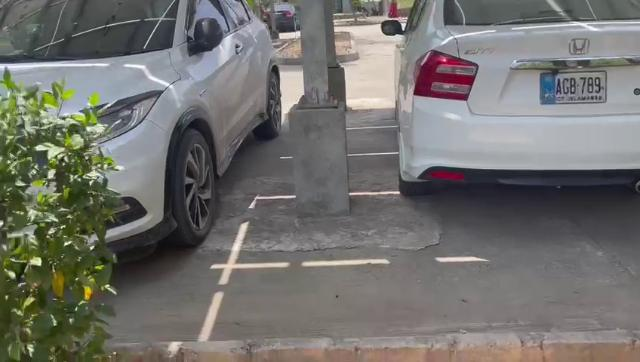plate: (540, 70, 610, 104)
